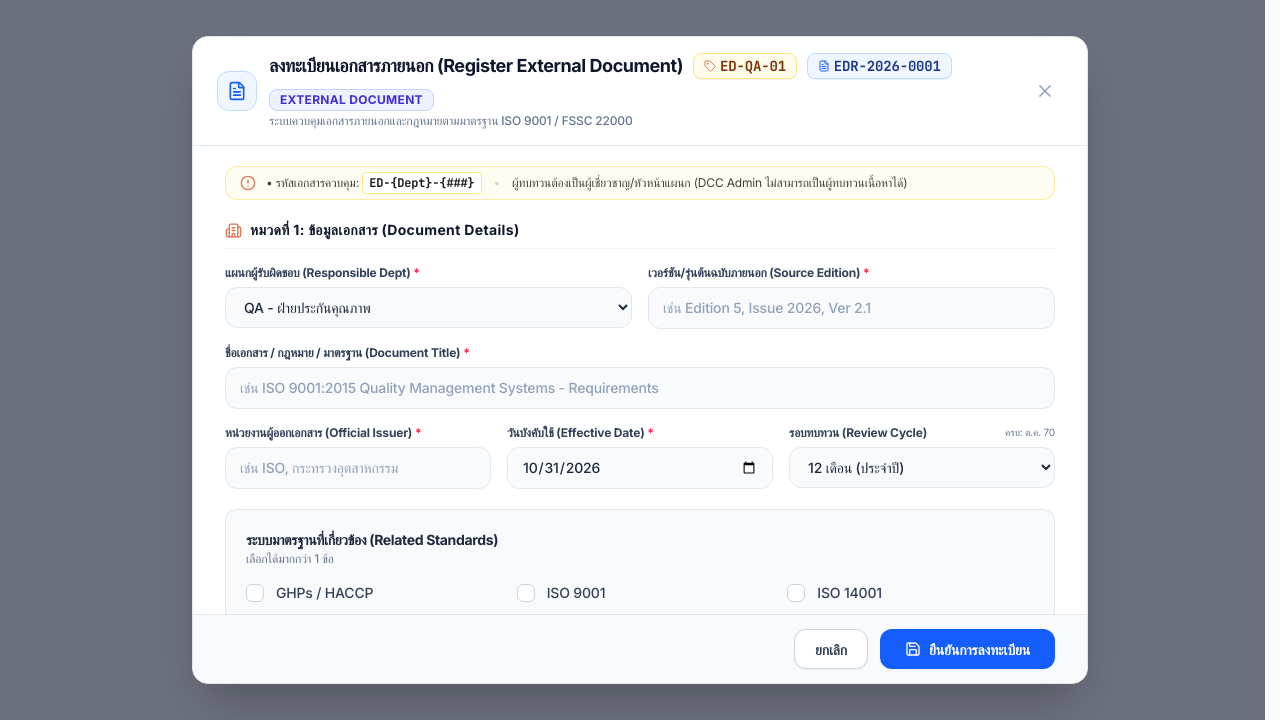
Test case: ExternalDocFormModal Default Responsible Department & Auto-Sync Tests › 3. Dynamically updates ED code preview when user manually changes department dropdown
expect the text "ED-QA-01" is shown: met, box 693,53 -> 797,79
Note: Change dropdown to EN
Select "EN - ฝ่ายวิศวกรรม" in the dropdown below "แผนกผู้รับผิดชอบ (Responsible Dept)" at (428, 308), box 225,287 -> 632,328
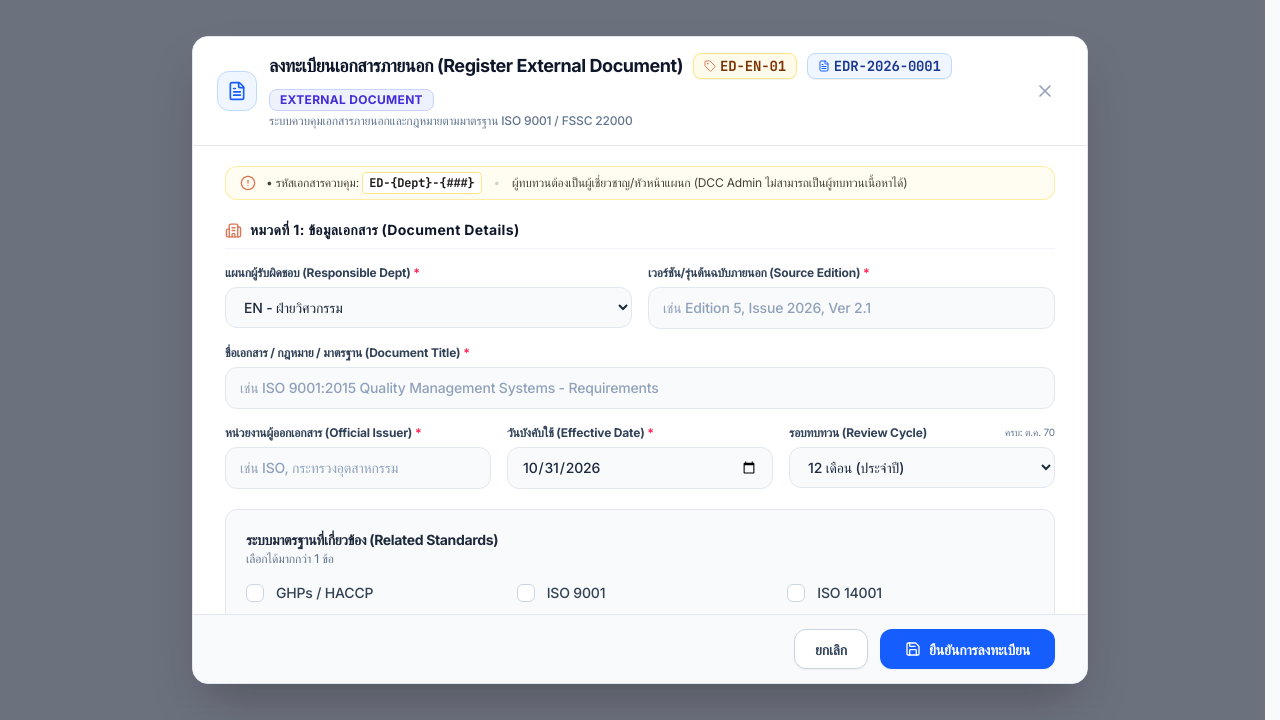
expect the text "ED-EN-01" is shown: met, box 693,53 -> 797,79
